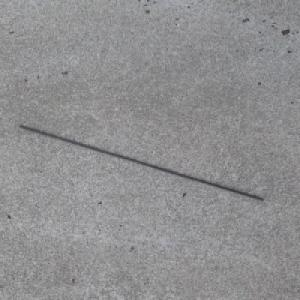LuggagePart: (16, 123, 264, 201)
